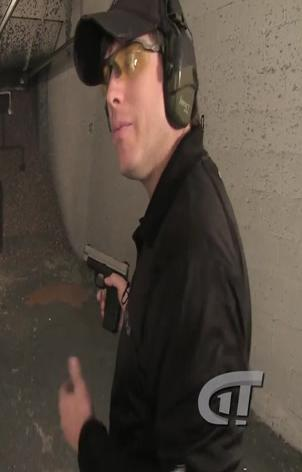pistol: (81, 243, 130, 333)
